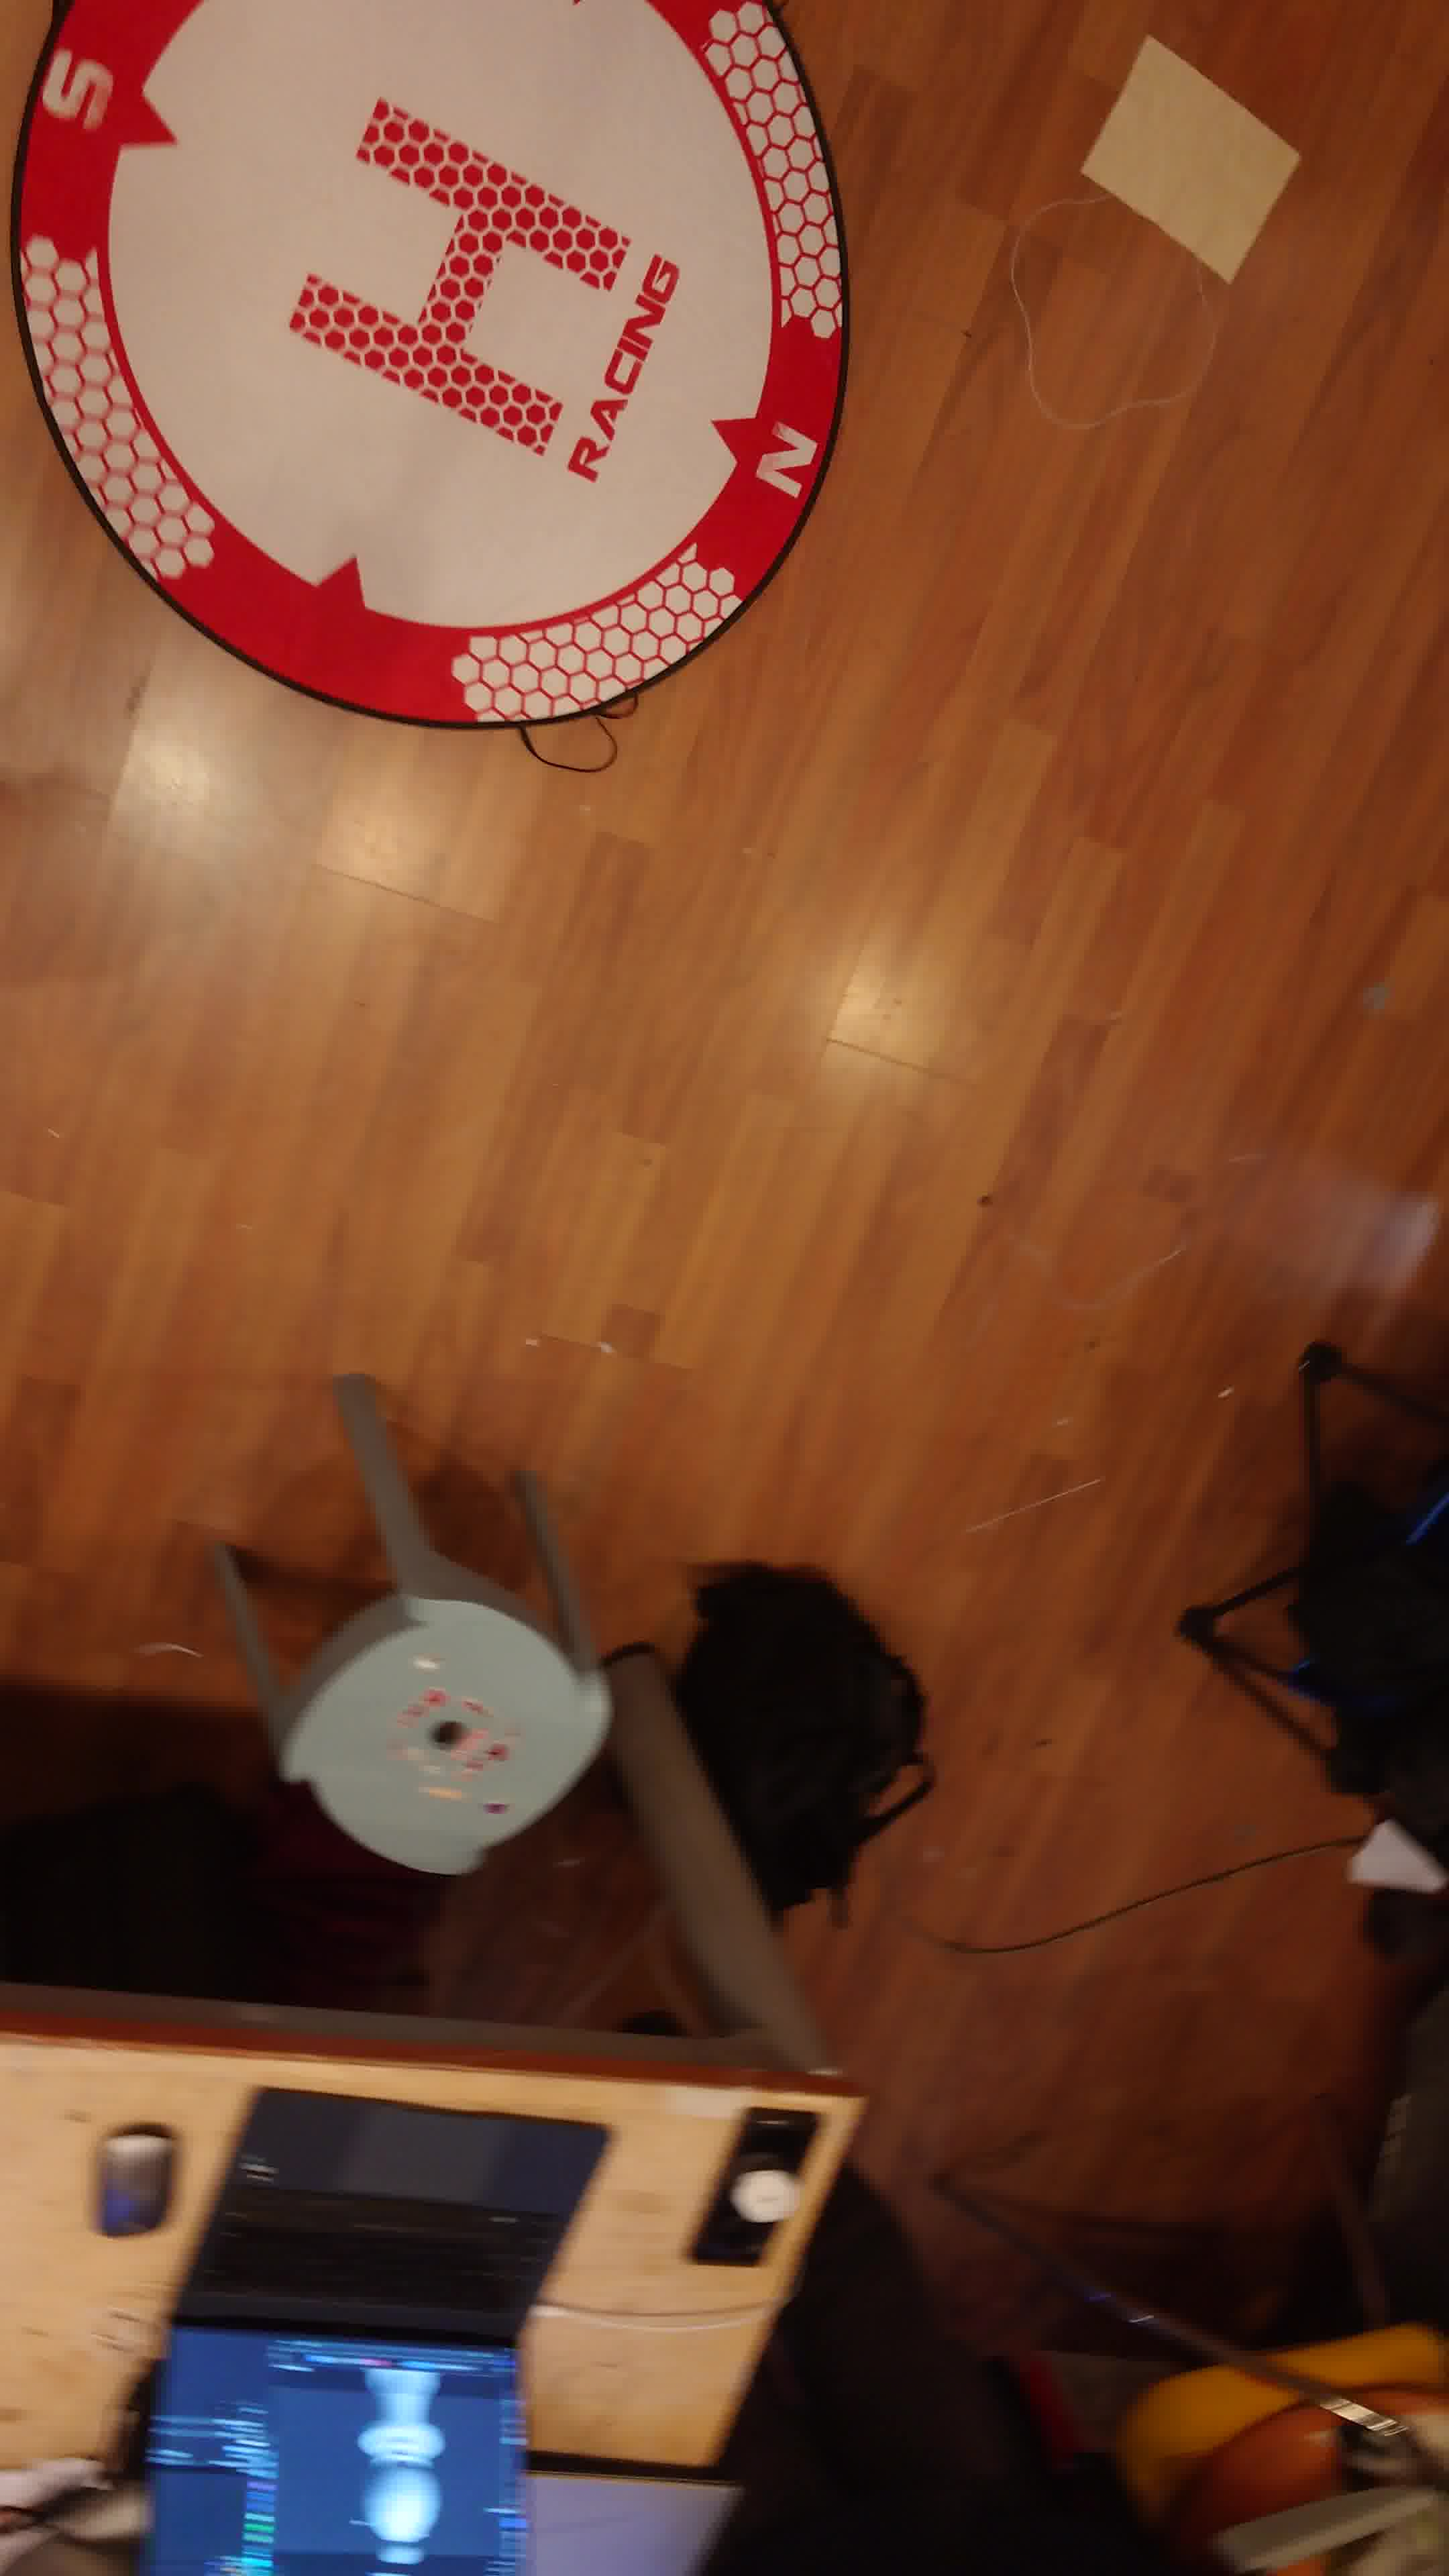H: (287, 97, 635, 455)
